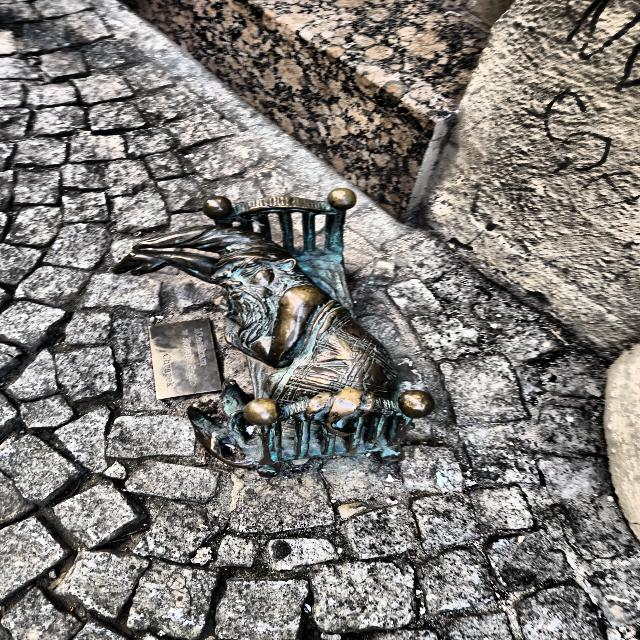Chrapek: (113, 189, 433, 478)
